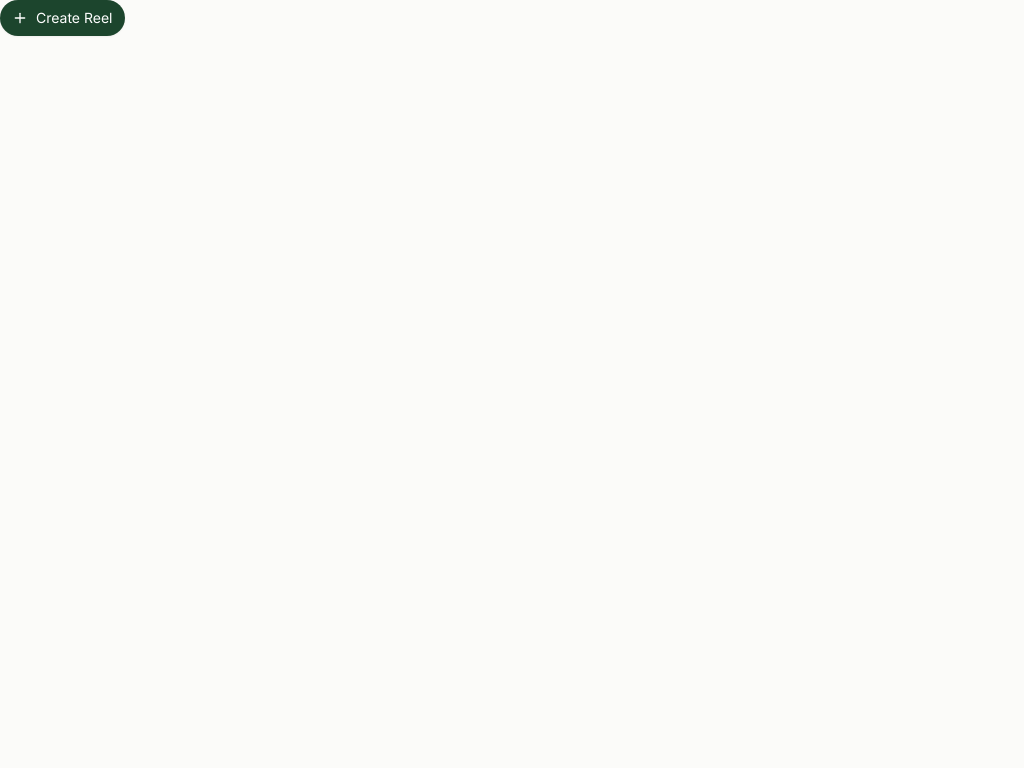
CreateBookReelDialog › toggles reading tags and supports custom tag entry
Click the button "Create Reel". click: (62, 18)
box: [0,0,124,36]
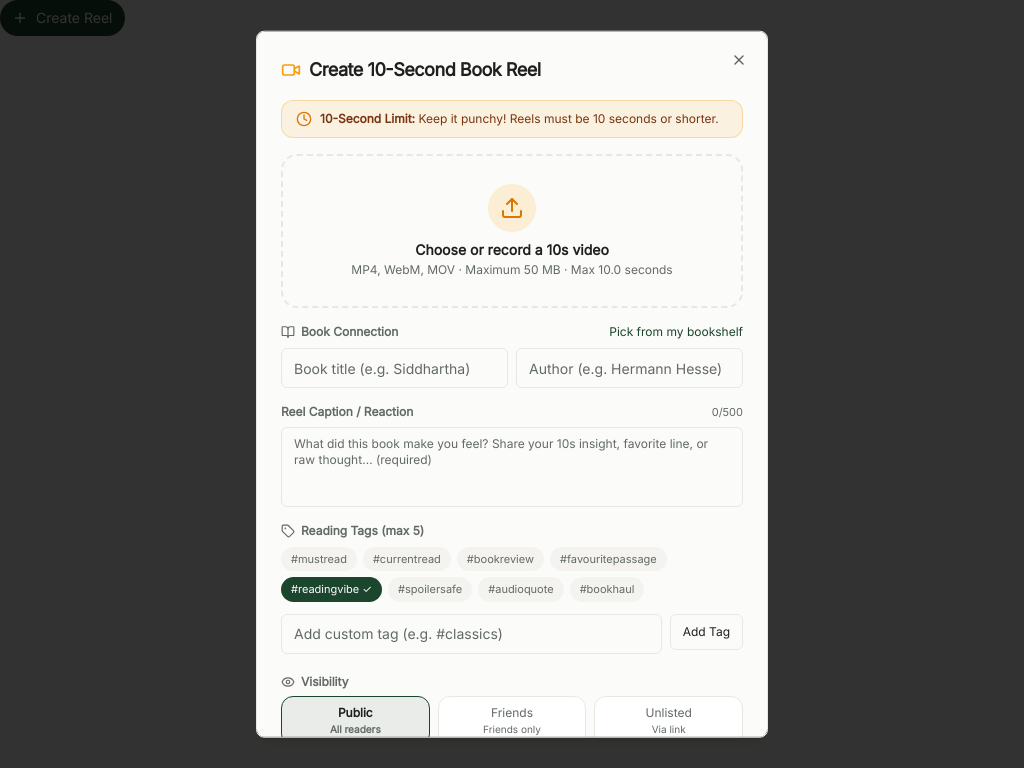
Click the button "#mustread". click: (319, 558)
box: [281,546,357,571]
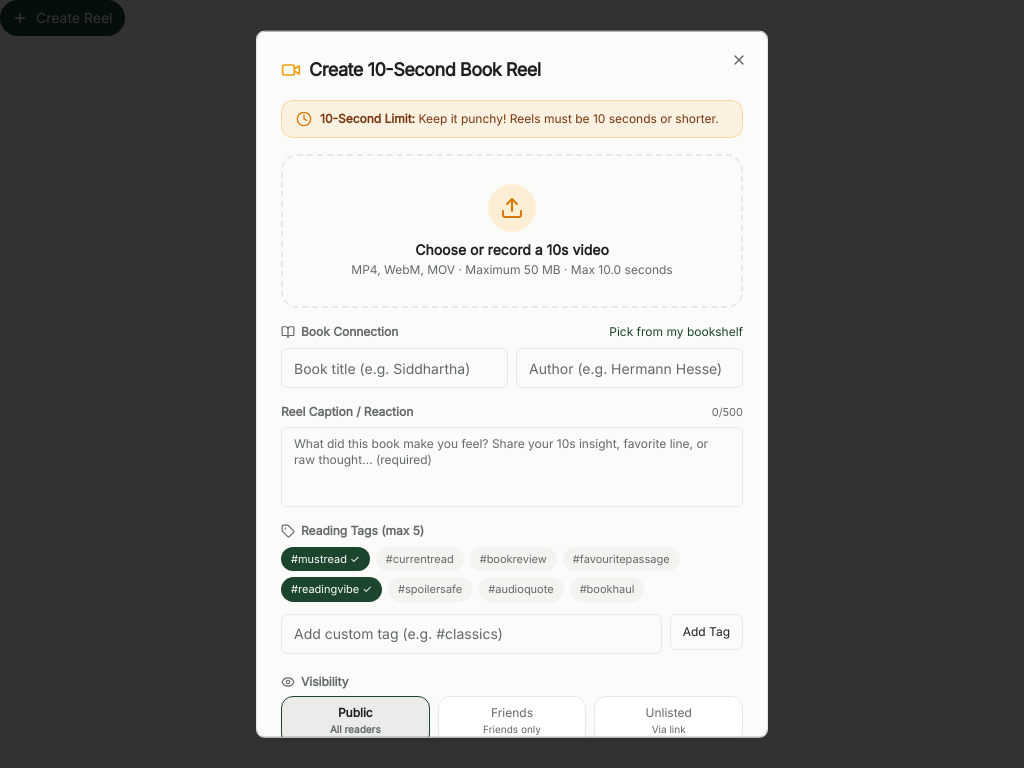
Expected: the button "#mustread ✓" is shown, [281,546,370,571]
Type "philosophy" into the field with placeholder "Add custom tag (e.g. #classics)". click: (471, 633)
box: [281,613,662,653]
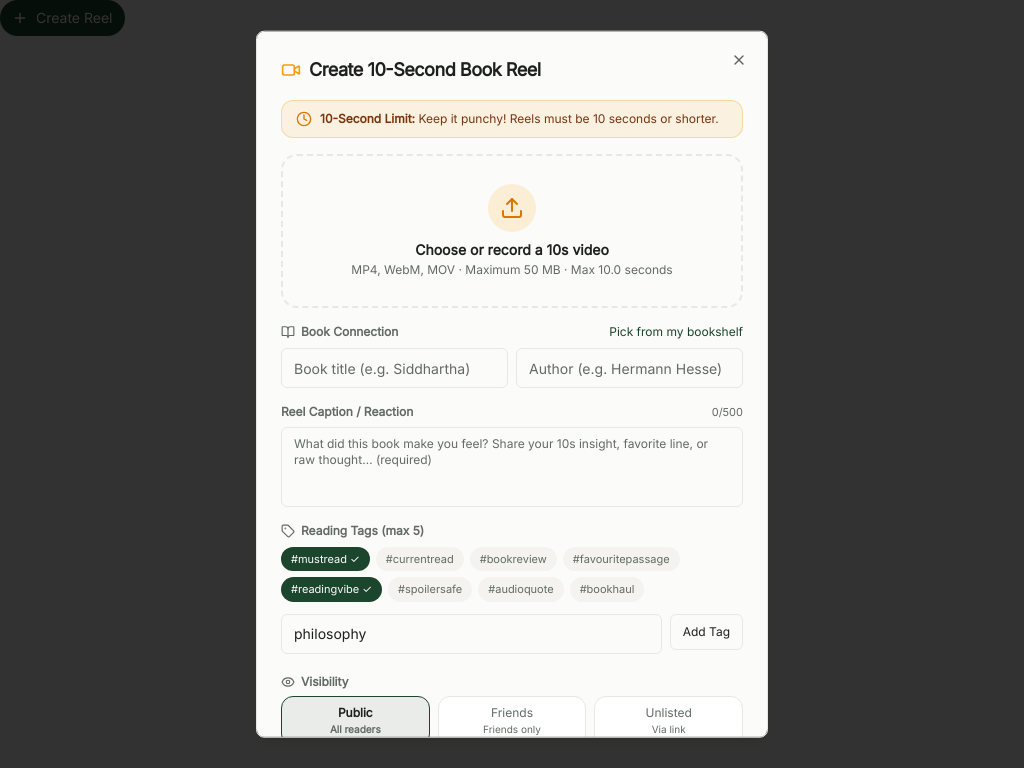
Click the button "Add Tag". click: (706, 631)
box: [670,613,743,649]
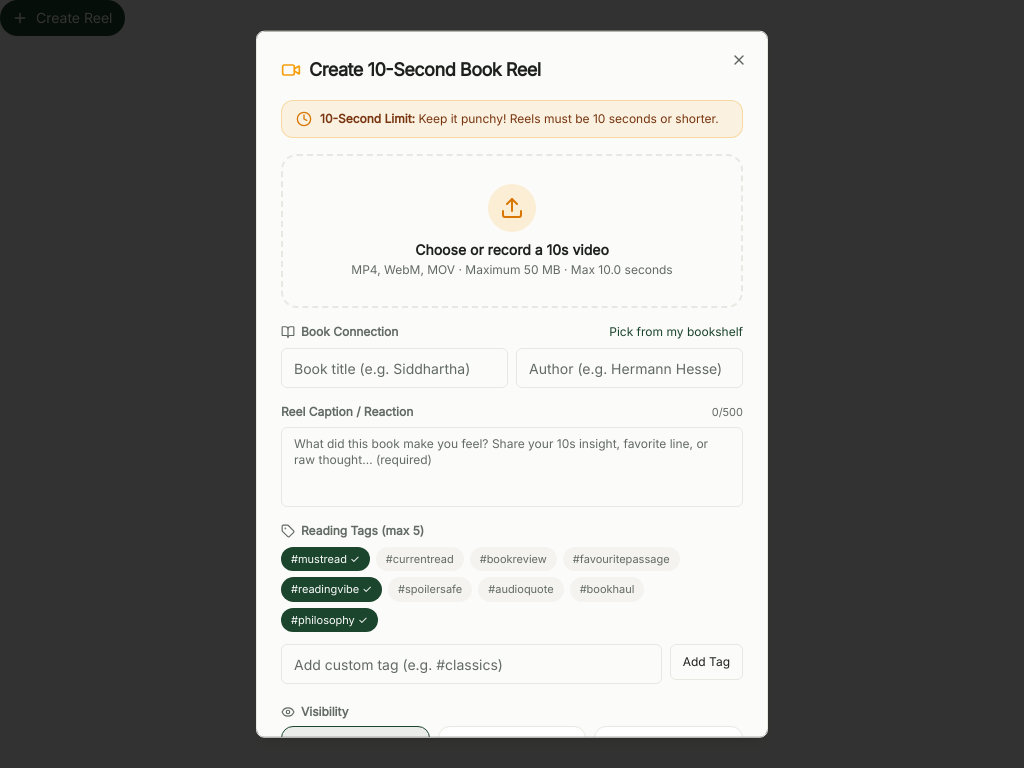
Expected: the button "#philosophy ✓" is shown, [281,607,378,632]
